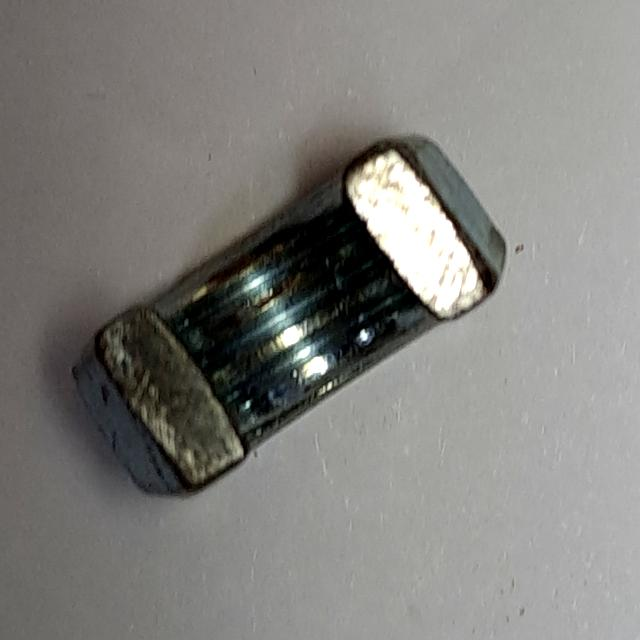Side-Fracture: (60, 121, 515, 517)
